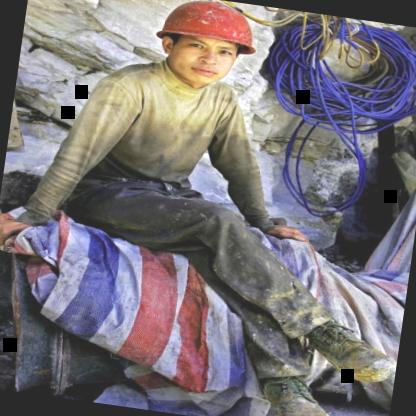helmet: (134, 0, 273, 99)
